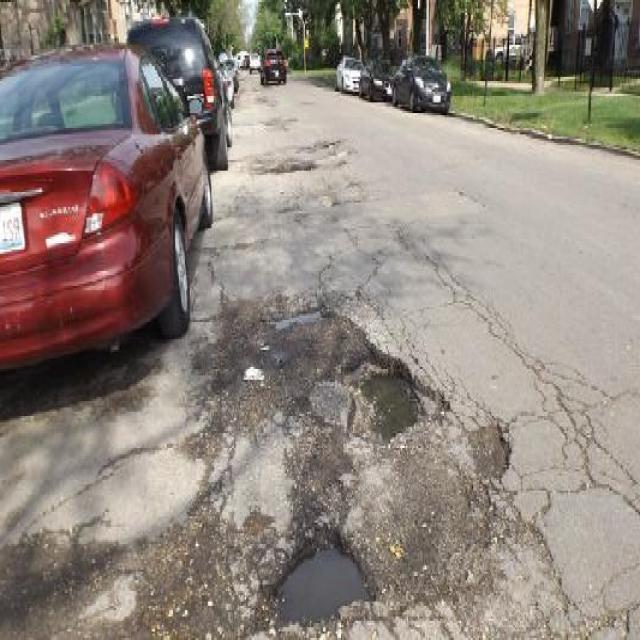pothole: (304, 322, 457, 476), (239, 513, 387, 640), (334, 339, 452, 448), (266, 527, 380, 625), (466, 420, 511, 490), (465, 420, 514, 478), (262, 303, 329, 338), (238, 360, 269, 396), (268, 156, 317, 173), (241, 361, 269, 387), (278, 160, 314, 176)
